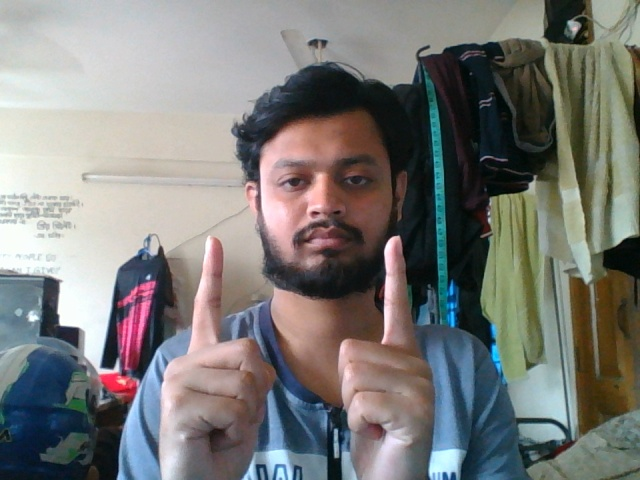ishara: (157, 234, 449, 480)
